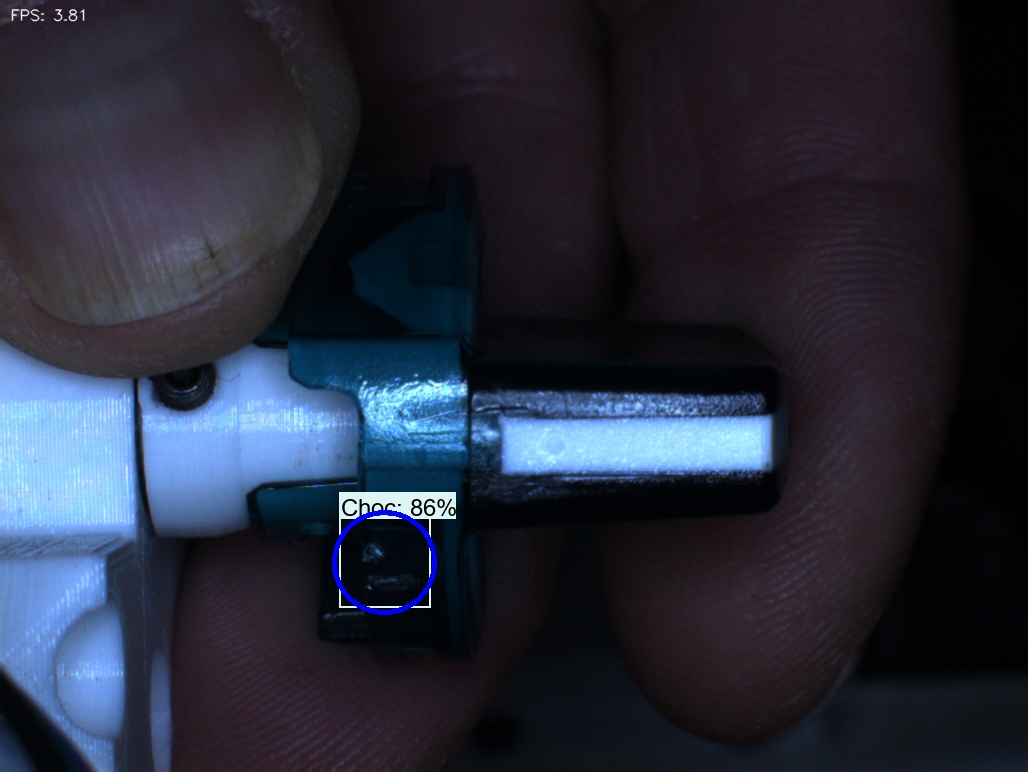DentOk: (328, 224, 397, 332)
